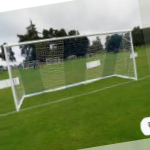goals: (2, 28, 140, 113)
